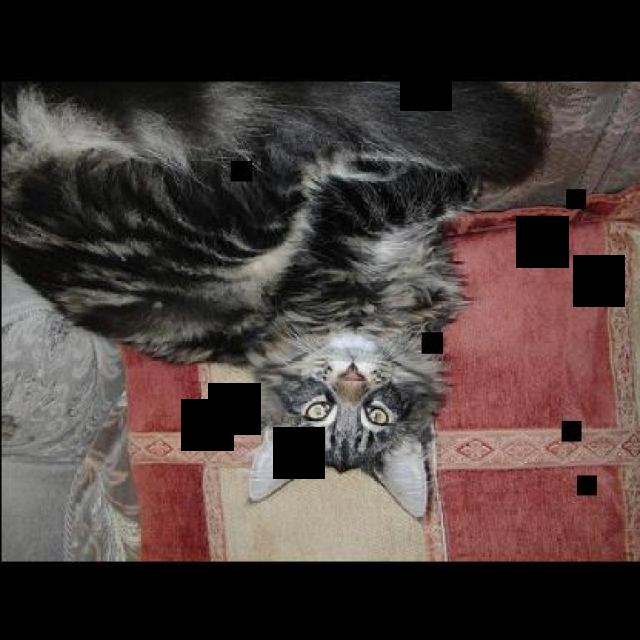unauthorized: (0, 78, 552, 519)
